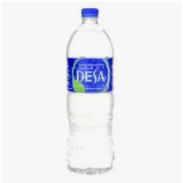Bottle: (66, 9, 115, 173)
